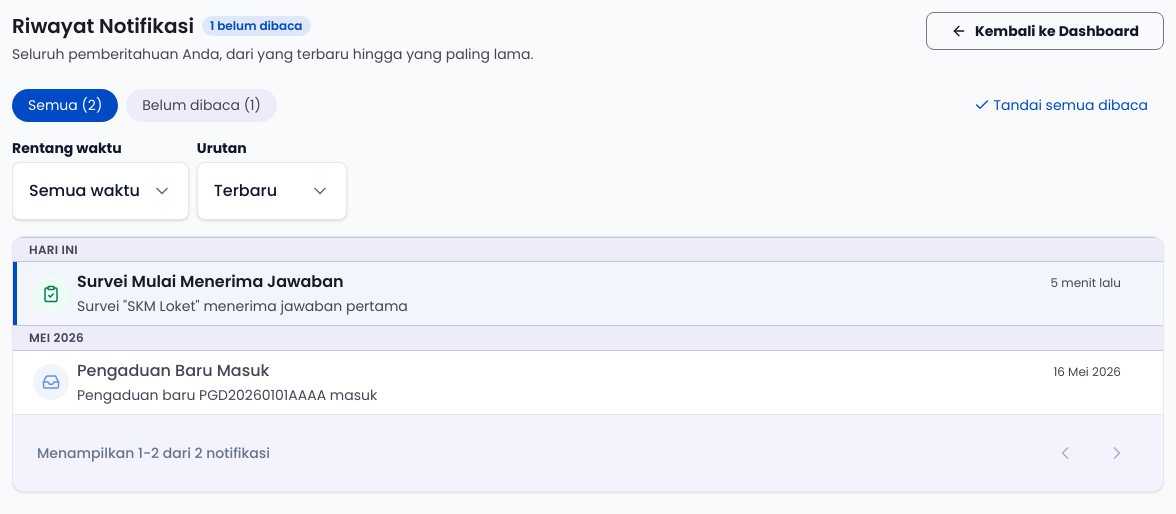
Test: NotificationHistoryScreen › saringan waktu & urutan › tombol reset baru muncul setelah ada saringan yang tidak bawaan
Expected: the text "Survei Mulai Menerima Jawaban" is shown, x1=77 y1=270 x2=344 y2=294
Expected: the button "reset filter" is not shown
Click the button "Semua waktu".
click(100, 191)  # box x1=12 y1=162 x2=189 y2=220
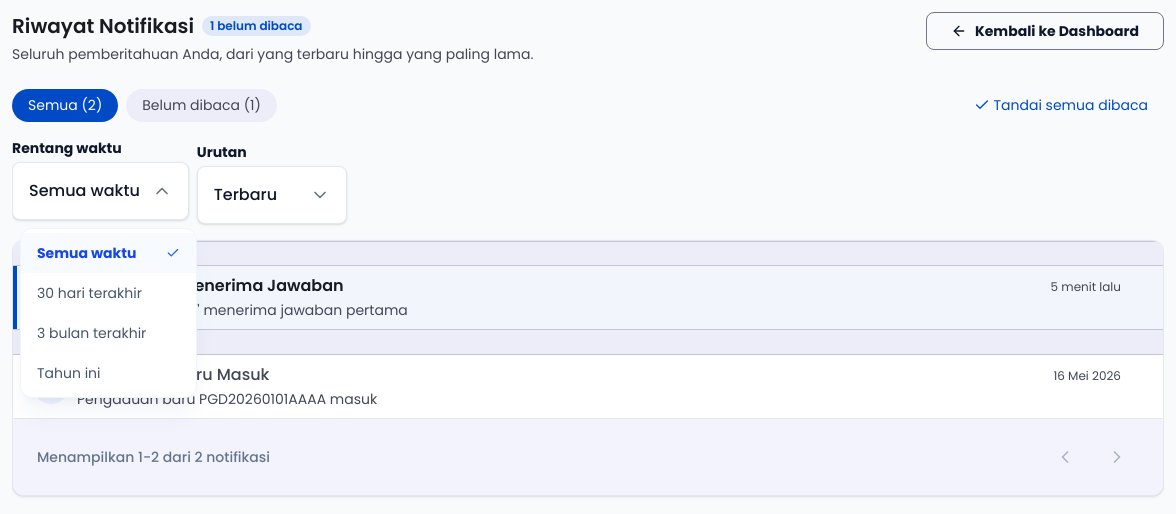
Click the button "Tahun ini".
click(108, 373)  # box x1=21 y1=353 x2=196 y2=393
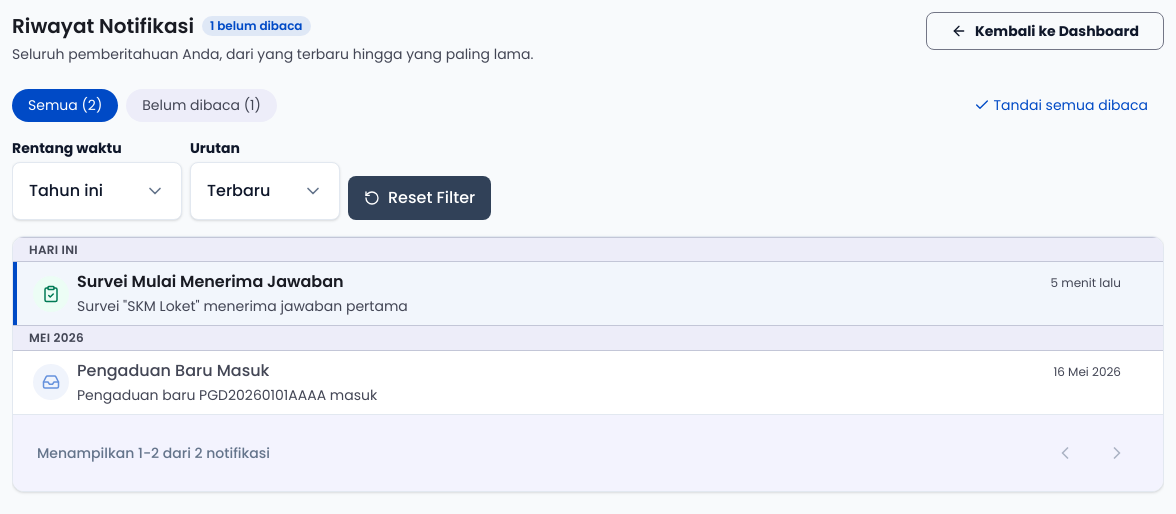
Expected: the button "Reset Filter" is shown, x1=348 y1=176 x2=491 y2=220
